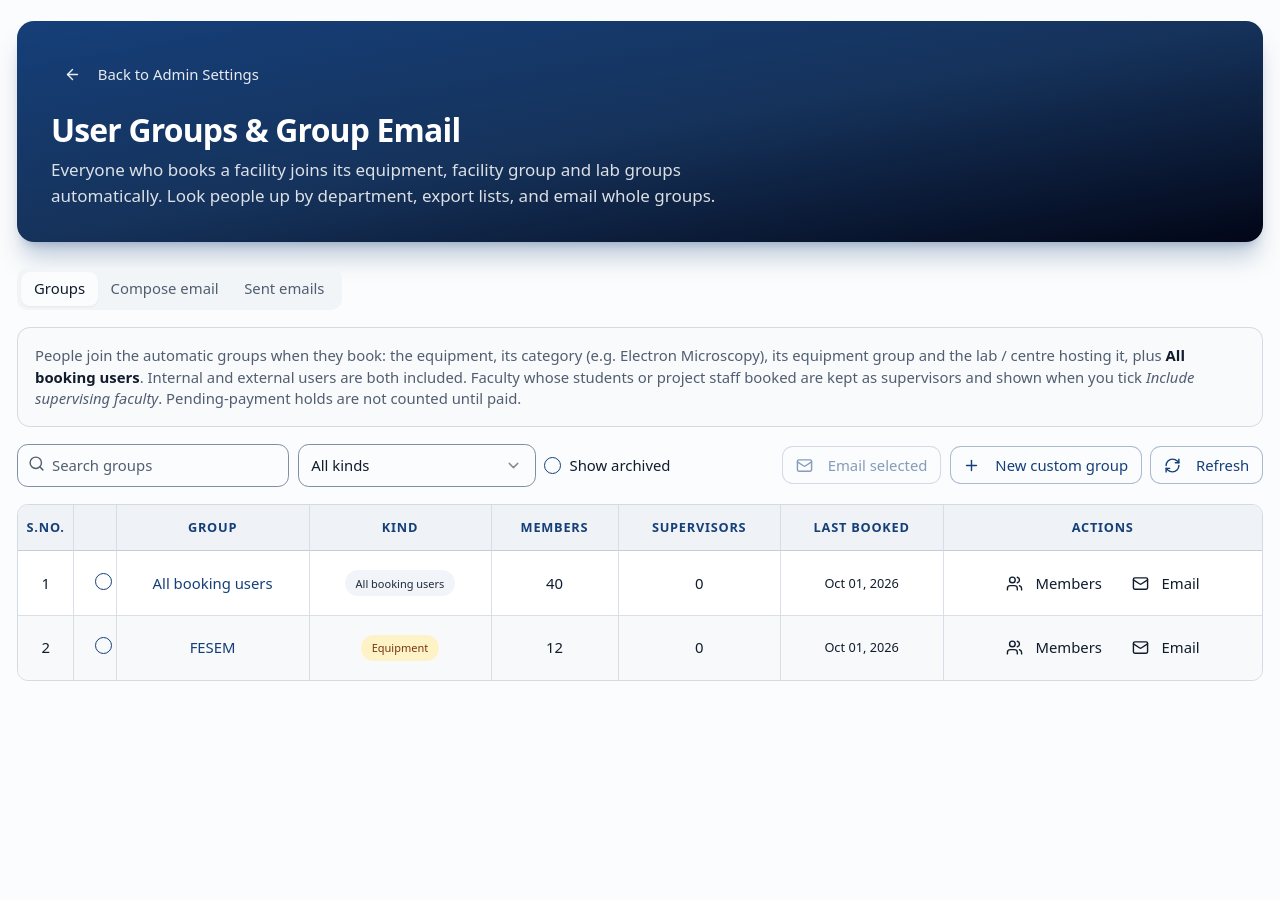
AdminUserGroups › opens compose with the group chosen and shows the recipient count
The width and height of the screenshot is (1280, 900).
Click the button with aria-label "Email FESEM" at (1166, 648), box [1119,629,1212,667]
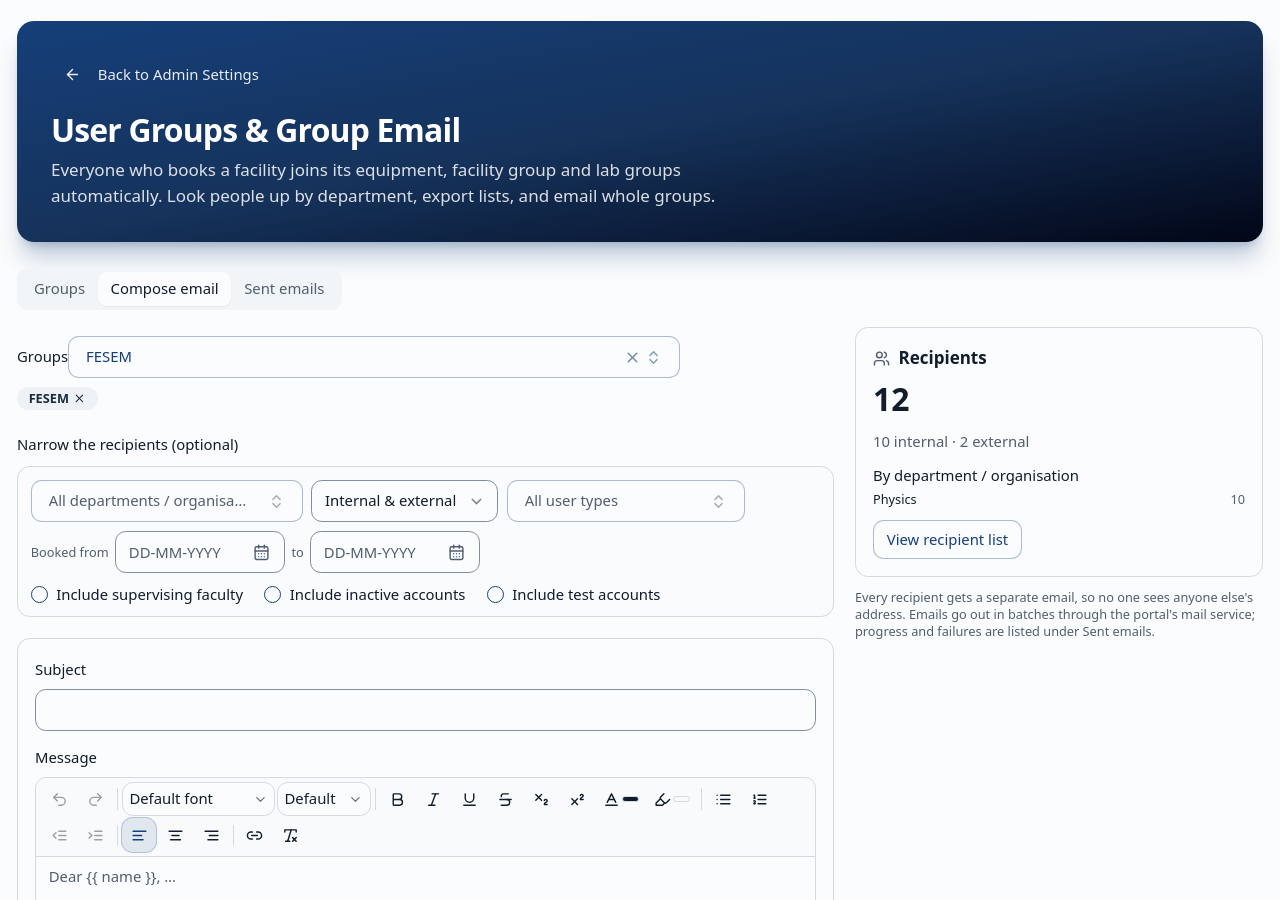
Expected: the text with test id "fg-recipient-count" reads "12", [873,377,910,420]
Expected: the text "10 internal · 2 external" is shown, [873,431,1029,451]
